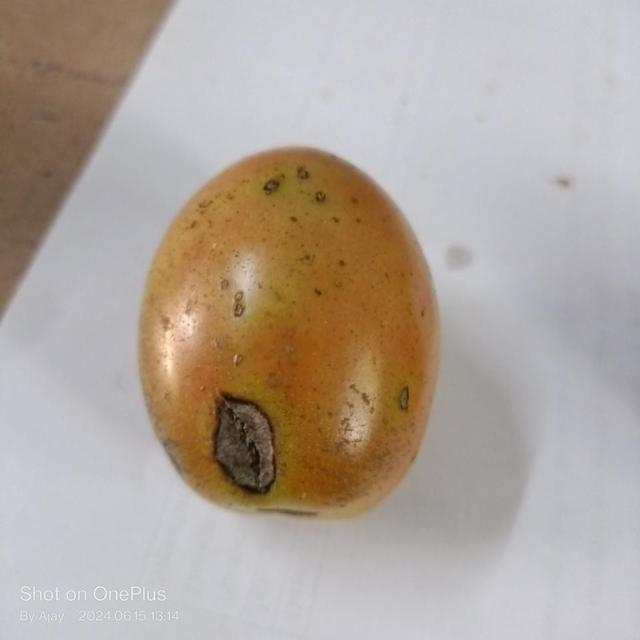Bacterial Spot Fruit: (14, 17, 270, 295)
